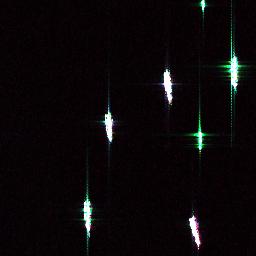ship: (186, 215, 203, 246), (161, 69, 176, 103), (102, 111, 115, 143), (82, 198, 92, 230), (229, 55, 239, 85), (196, 130, 203, 148), (198, 1, 207, 12)
